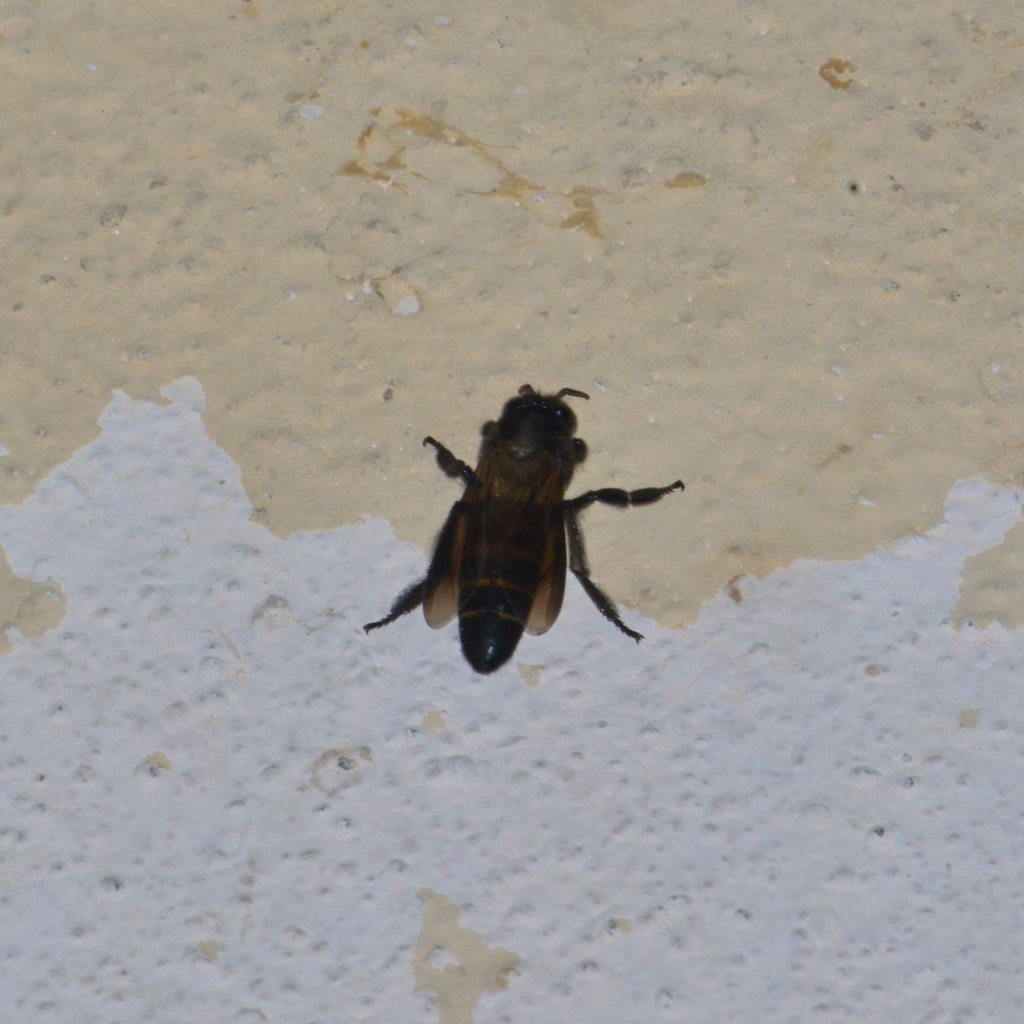honeybee: (362, 385, 689, 679)
